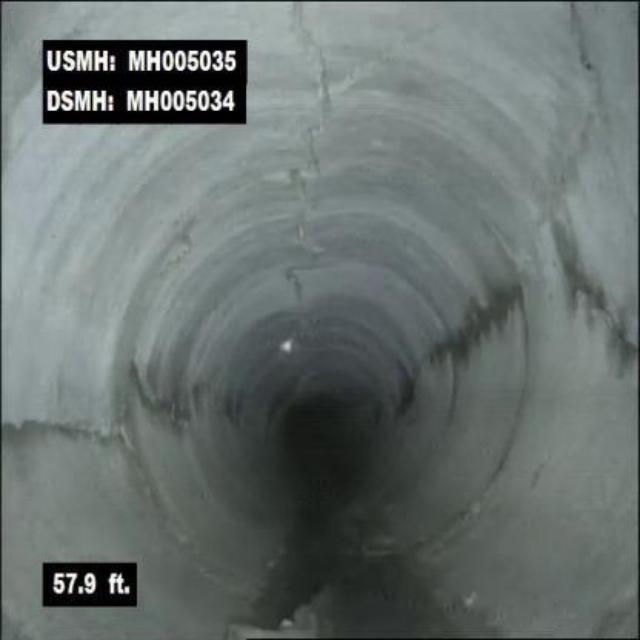Crack: (552, 235, 638, 371), (569, 8, 628, 138), (288, 3, 338, 117), (349, 28, 452, 82), (11, 414, 123, 445)
Debris: (225, 583, 340, 638)
